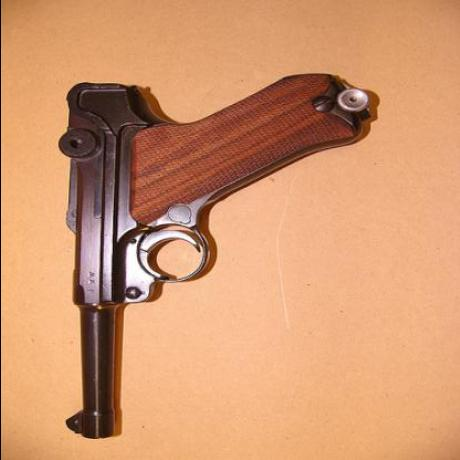weapon: (48, 66, 378, 442)
